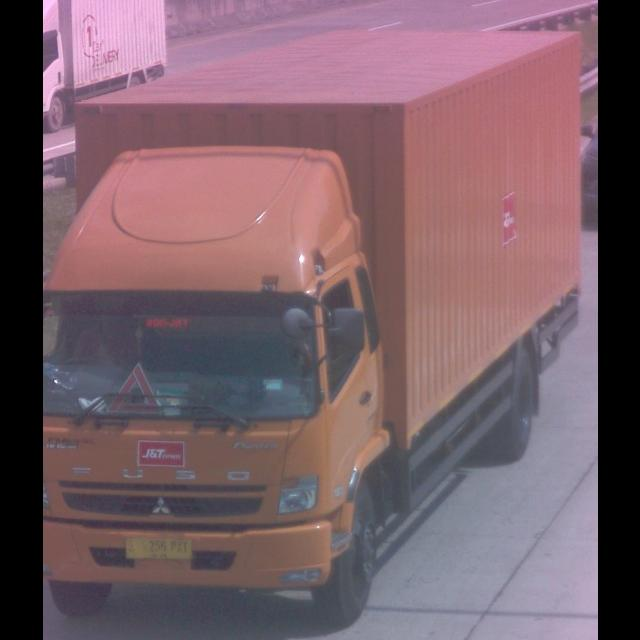plate: (120, 534, 196, 564)
